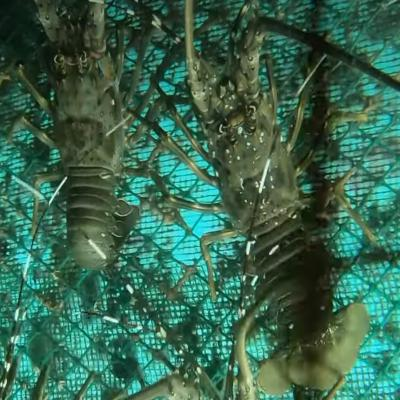lobster: (207, 31, 336, 368), (46, 16, 126, 270)
